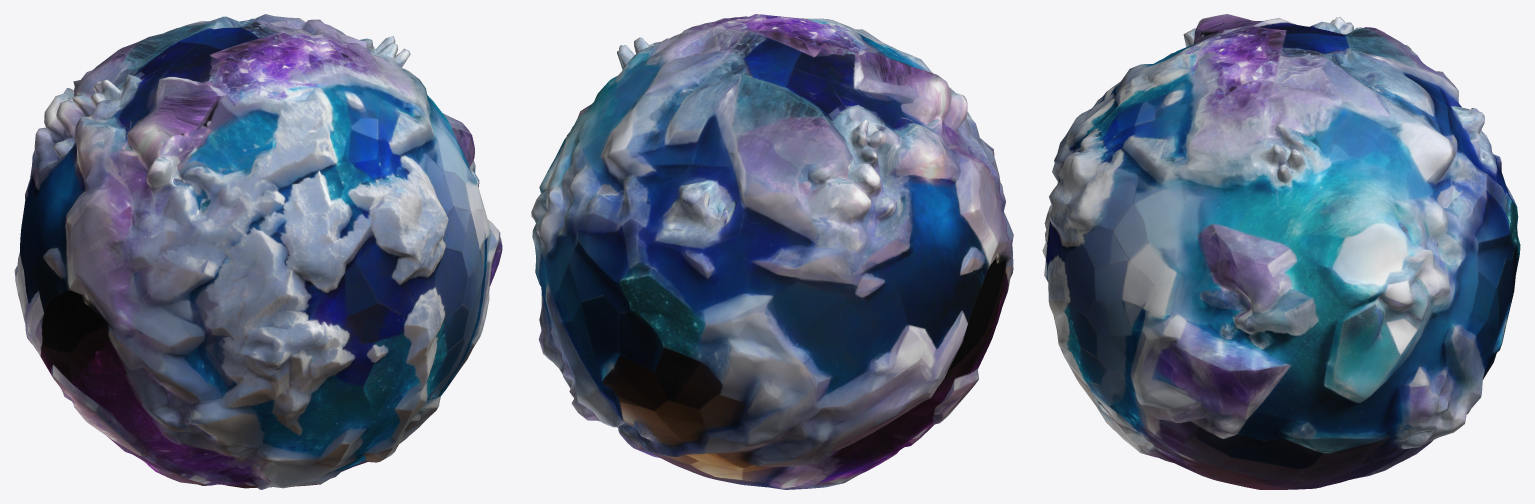
File: planet.glb
3 renders of one model, left to right at view 1: azimuth 30°, elevation 25°; view 2: azimuth 150°, elevation 25°; view 3: azimuth 270°, elevation 25°, orthographic.
Bounding box in the file's own units: 2 × 1.95 × 1.98.
1 material, 1 textured.
